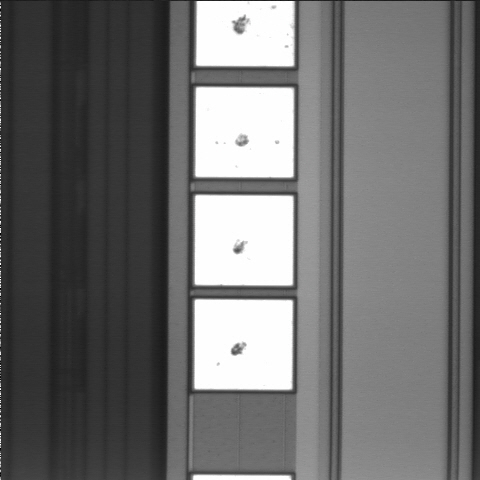pad: (194, 299, 293, 390), (195, 195, 293, 286), (195, 87, 294, 177)
